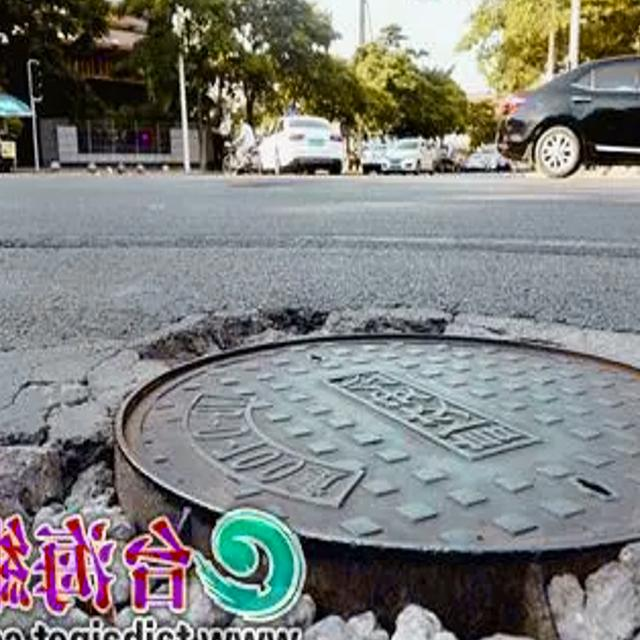circle: (0, 303, 640, 640)
